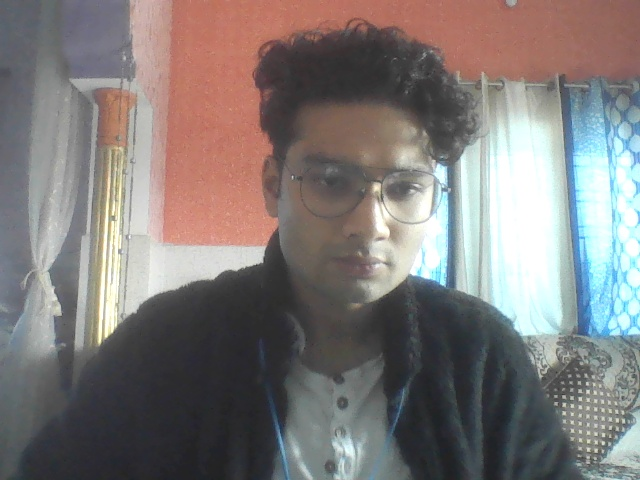real: (244, 27, 458, 331)
